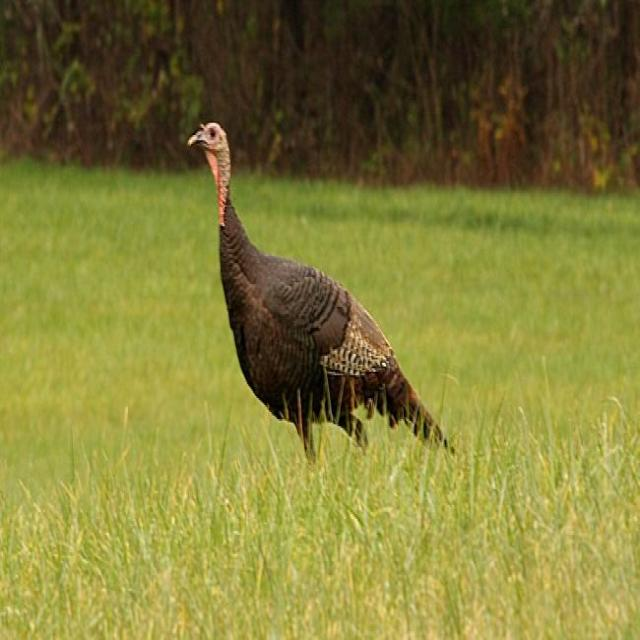turkey: (188, 123, 448, 456)
